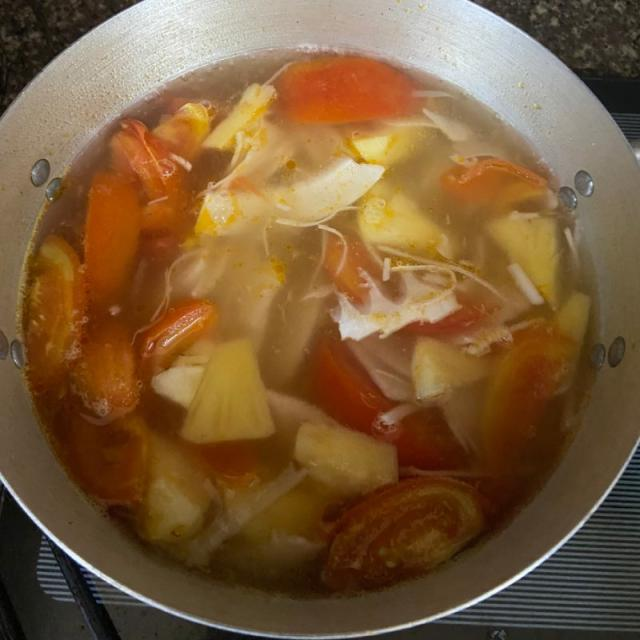canh chua: (21, 55, 590, 594)
